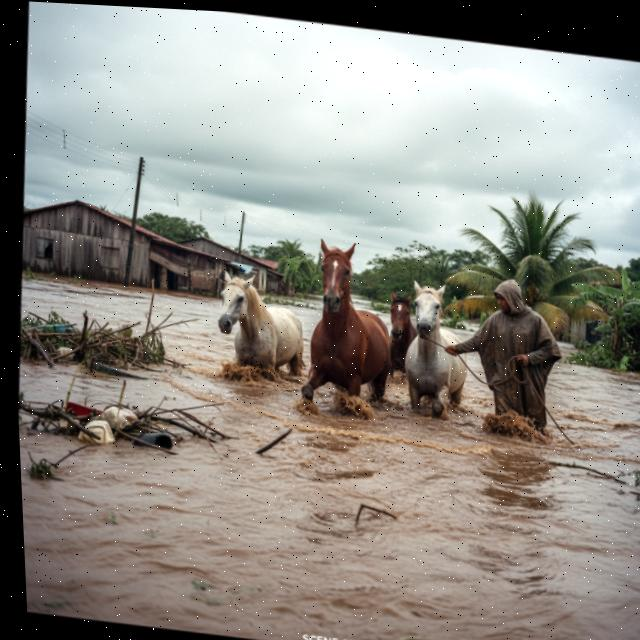civilian: (450, 265, 577, 441)
horse: (286, 231, 409, 421), (382, 272, 482, 421), (202, 263, 318, 387), (376, 285, 423, 380)
